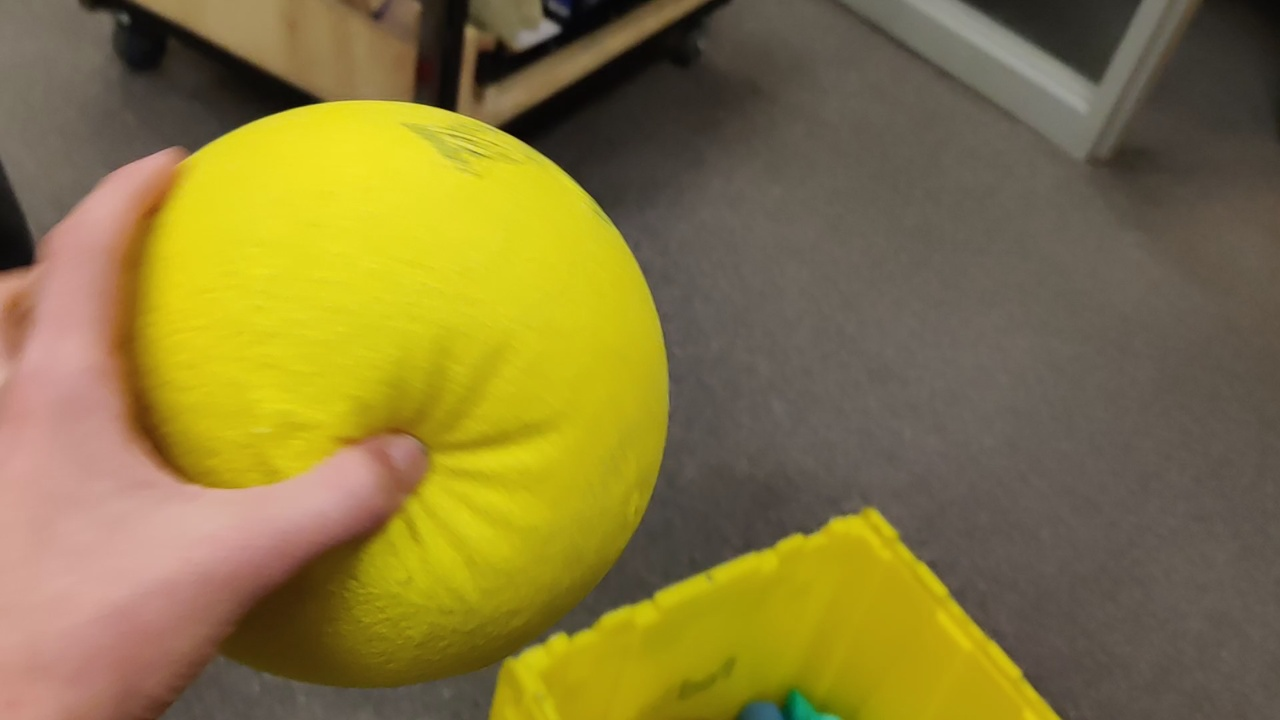Ball: (156, 101, 668, 678)
